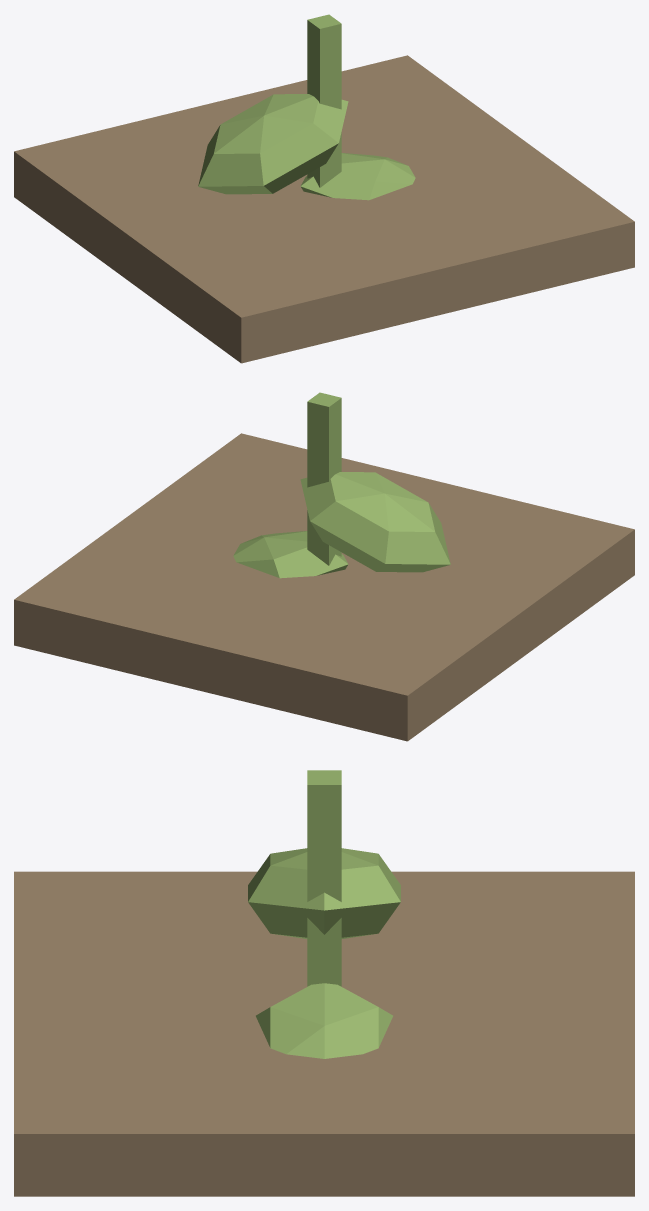
The model's file is cozy-farm-and-homestead-wheat-seedling-8458f7ae__19423.glb.
3 views of the same model, one above another, from view 1: azimuth 30°, elevation 25°; view 2: azimuth 150°, elevation 25°; view 3: azimuth 270°, elevation 25° (orthographic). The views are drawn at different scales.
Parts seen in each view (by area): view 1: wheat-seedling; view 2: wheat-seedling; view 3: wheat-seedling.
Boxes of the visible parts, x1,y1,x2,y2 form: wheat-seedling: (14,14,634,363); wheat-seedling: (14,392,634,741); wheat-seedling: (14,770,634,1196).
Bounding box in the file's own units: 0.45 × 0.2426 × 0.45.
